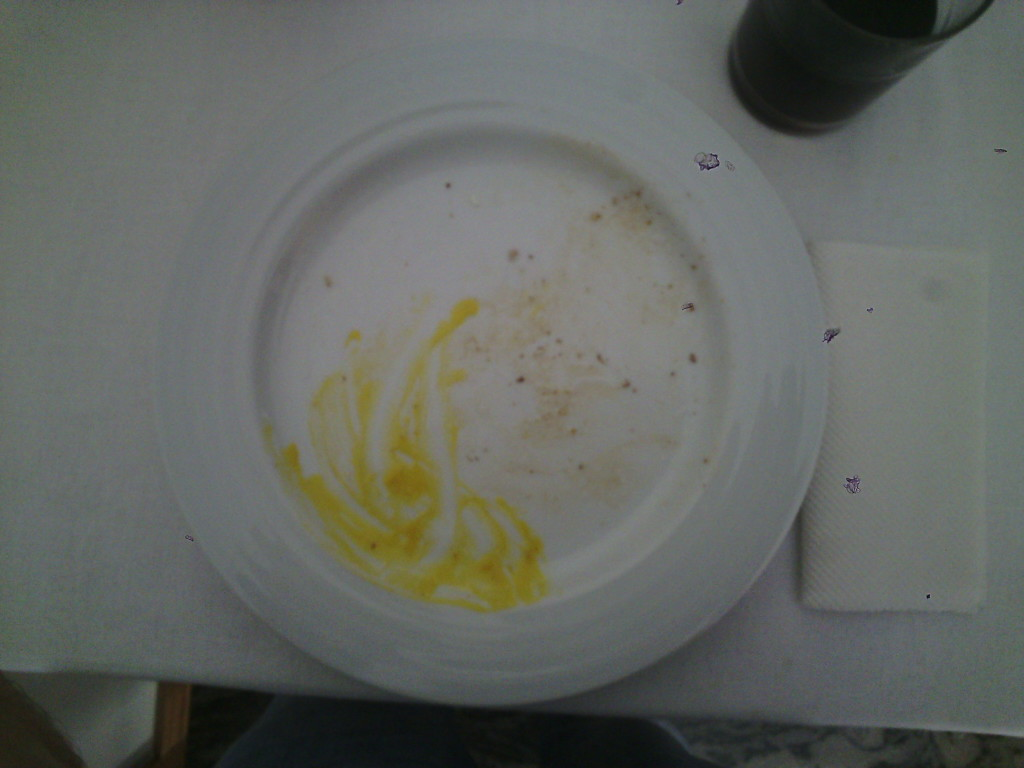0-20: (175, 45, 827, 709)
